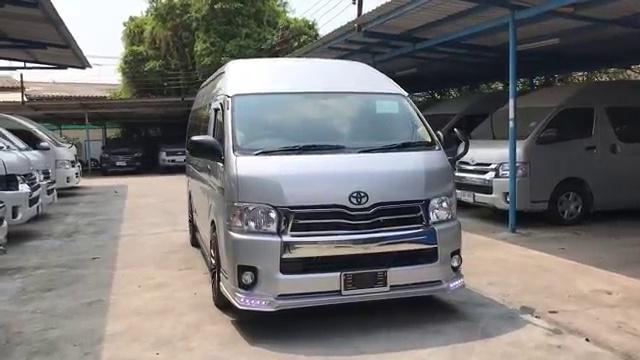van: (175, 58, 469, 325)
